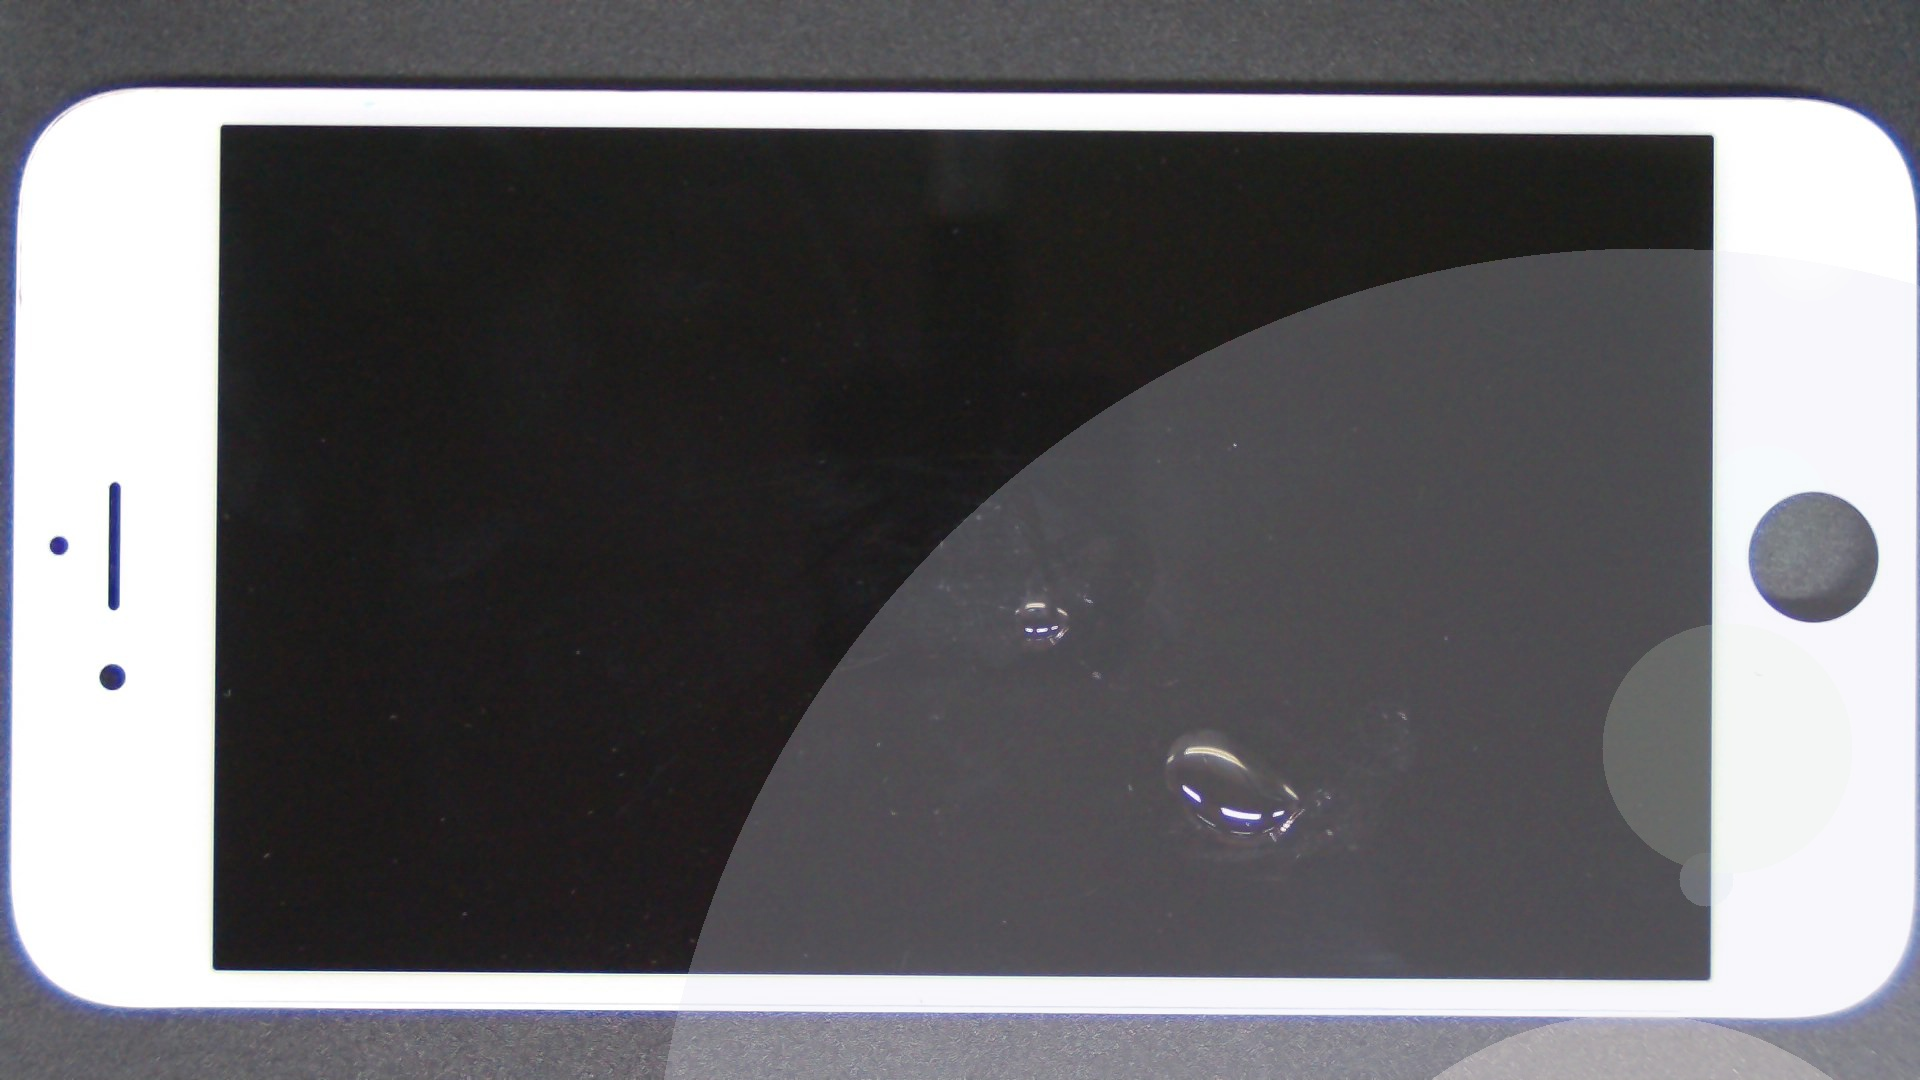oil: (604, 363, 1812, 1080), (521, 299, 1561, 899)
